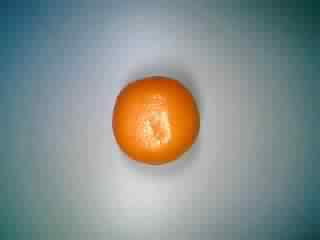orange: (105, 69, 202, 167)
